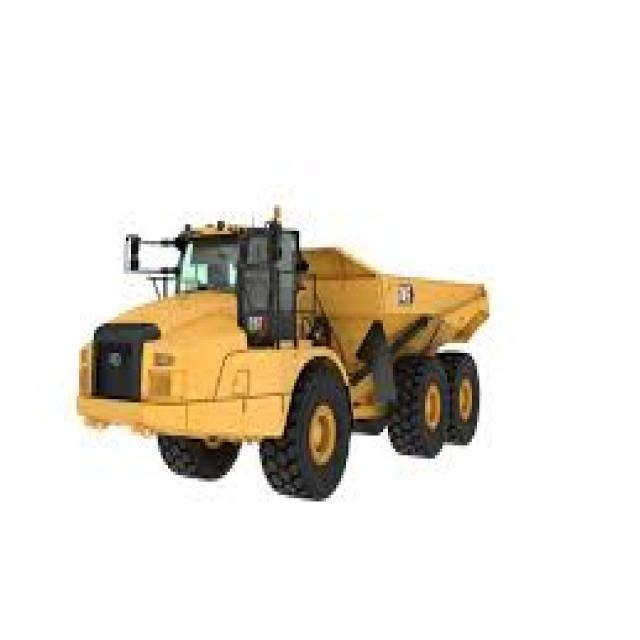dump_truck: (78, 203, 492, 503)
